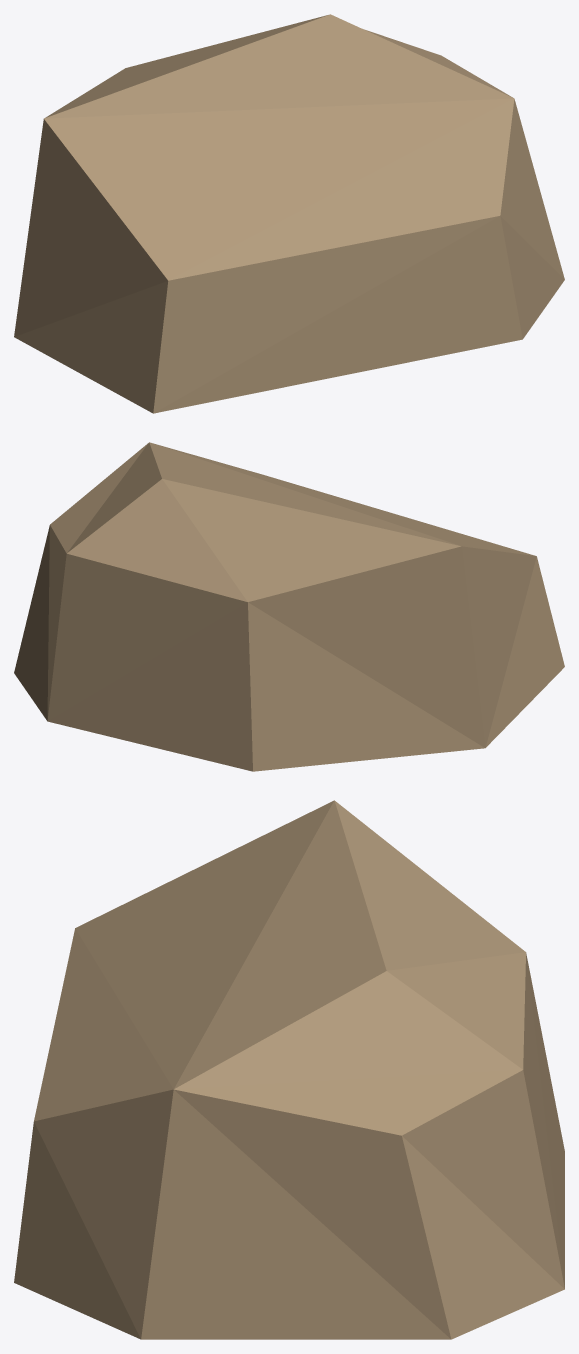
File: TB_D_Env_StoneA_B.FBX
3 views of the same model, one above another, from view 1: azimuth 30°, elevation 25°; view 2: azimuth 150°, elevation 25°; view 3: azimuth 270°, elevation 25° (orthographic). The views are drawn at different scales.
Visible parts, largest first — view 1: TB_D_Env_StoneA_B; view 2: TB_D_Env_StoneA_B; view 3: TB_D_Env_StoneA_B.
Boxes of the visible parts, box(x1,y1,x2,y2) form: TB_D_Env_StoneA_B: box(14, 14, 564, 413); TB_D_Env_StoneA_B: box(14, 442, 564, 771); TB_D_Env_StoneA_B: box(14, 800, 564, 1339).
Size of the model in its own units: 0.6569 by 0.3022 by 0.5293.
